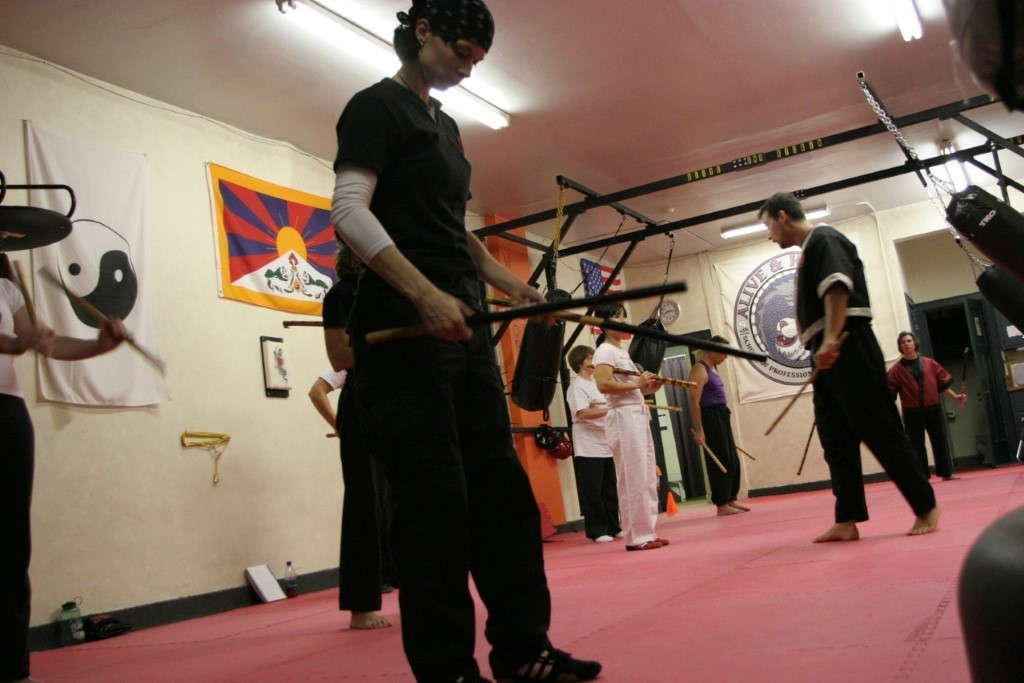baston_e: (375, 281, 677, 345), (495, 294, 761, 359), (41, 273, 164, 362), (764, 337, 847, 431), (590, 363, 695, 388), (12, 263, 39, 328), (691, 430, 726, 470), (799, 420, 814, 473), (959, 348, 970, 394), (645, 403, 679, 413), (735, 443, 752, 459)
baston_v: (484, 291, 504, 307), (362, 328, 376, 347), (676, 276, 690, 293), (155, 359, 170, 373), (37, 264, 51, 277), (759, 350, 771, 364), (585, 361, 595, 372), (692, 380, 701, 390), (842, 328, 852, 337), (323, 431, 331, 439), (677, 405, 684, 413), (12, 258, 19, 265), (722, 468, 729, 475), (688, 426, 694, 432), (650, 398, 655, 405), (763, 432, 768, 438), (751, 457, 757, 461), (796, 471, 800, 477)
